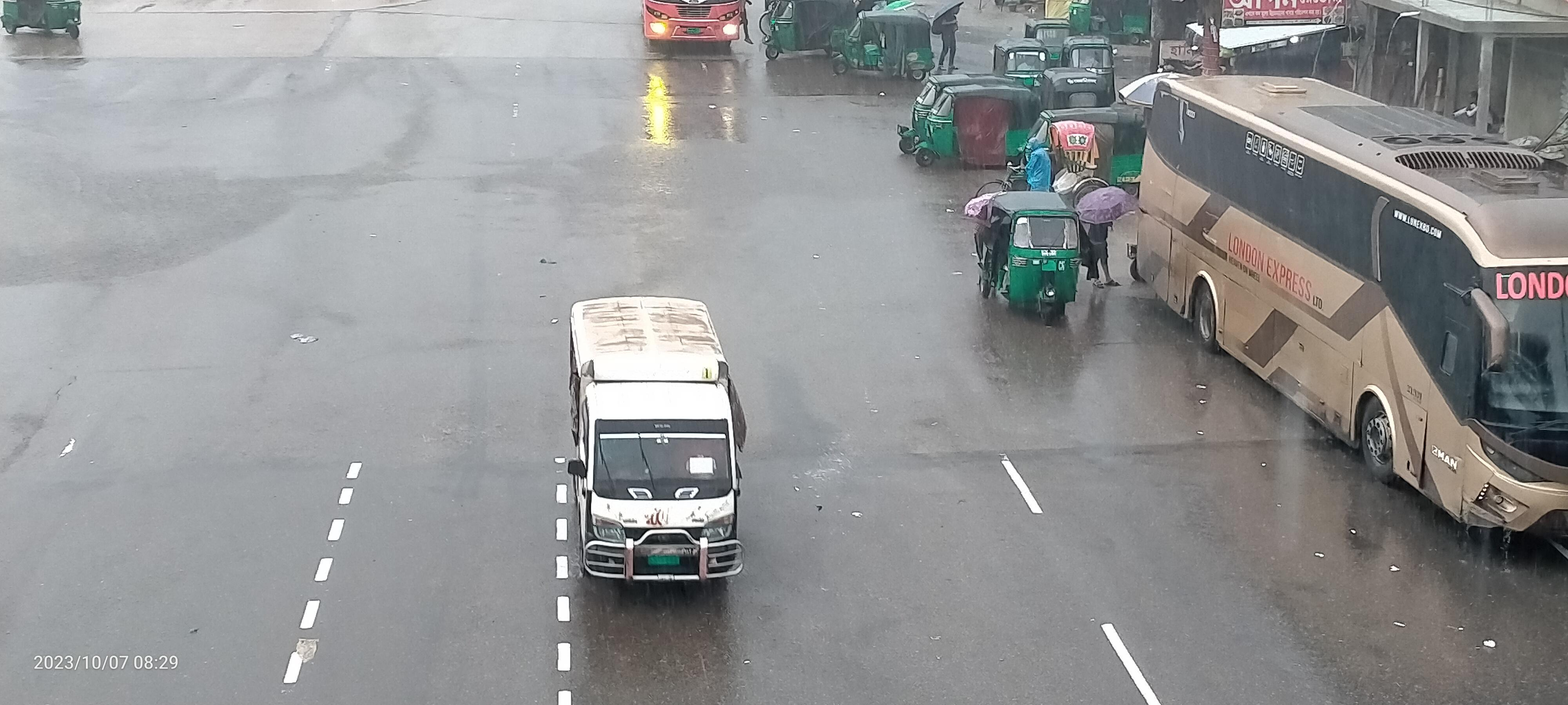Bus: (1107, 38, 1568, 591), (626, 0, 770, 81)
Car: (528, 232, 779, 613)
